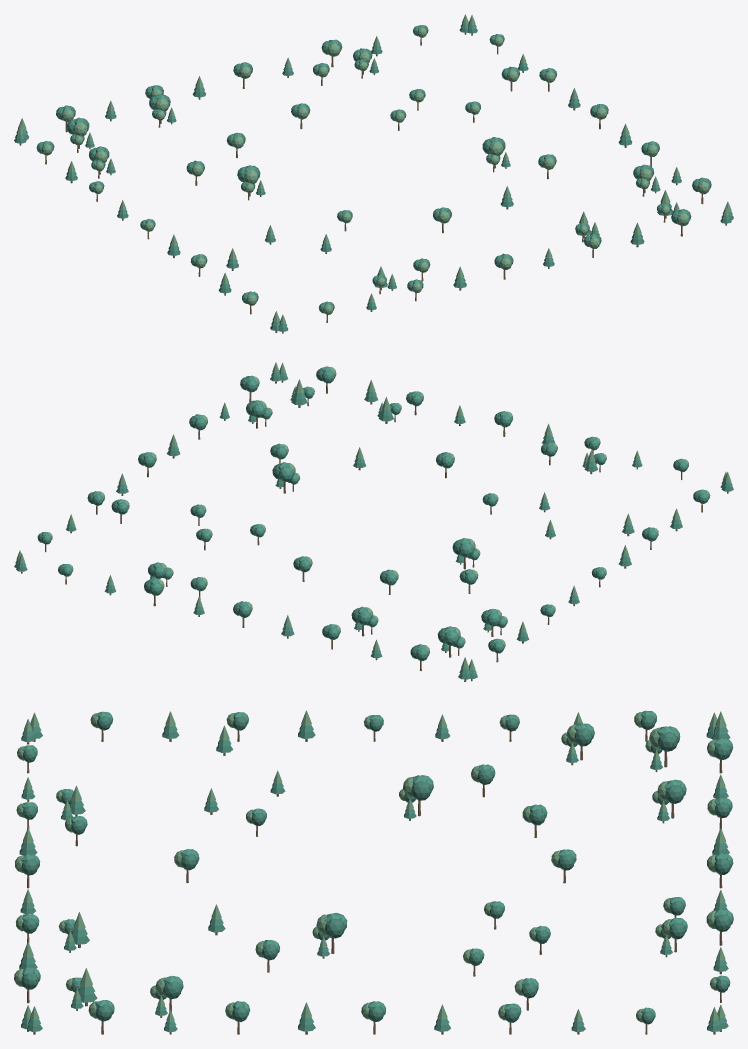
Rendered from SM_R01_Trees.fbx.
3 renders of one model, top to bottom at view 1: azimuth 30°, elevation 25°; view 2: azimuth 150°, elevation 25°; view 3: azimuth 270°, elevation 25°, orthographic. The views are drawn at different scales.
Visible parts, largest first — view 1: SM_R01_Trees; view 2: SM_R01_Trees; view 3: SM_R01_Trees.
Part boxes in pixels (left/top/right/bottom): SM_R01_Trees: left=14, top=14, right=733, bottom=333; SM_R01_Trees: left=14, top=362, right=733, bottom=681; SM_R01_Trees: left=14, top=710, right=733, bottom=1034.
Size of the model in its own units: 112 by 112 by 7.43.
